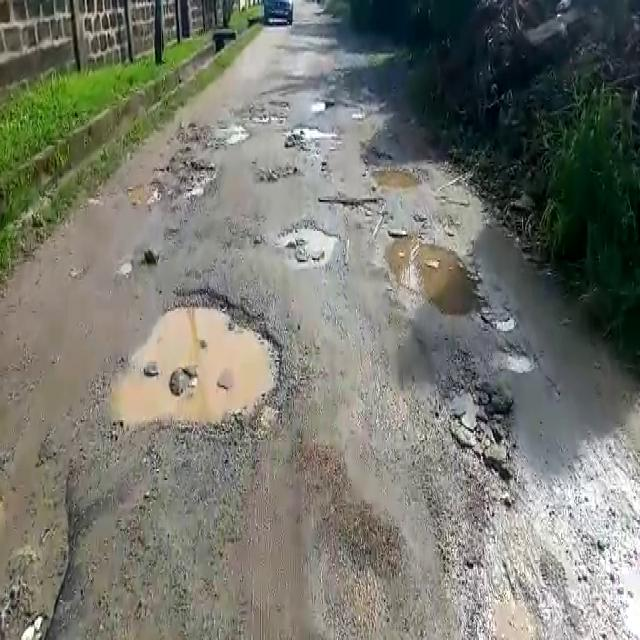Pothole: (102, 287, 286, 436), (0, 456, 74, 638), (383, 232, 493, 326), (432, 379, 514, 494), (125, 146, 218, 212), (281, 221, 342, 263), (274, 120, 340, 144), (314, 193, 387, 214), (370, 165, 426, 192), (493, 343, 539, 375)
